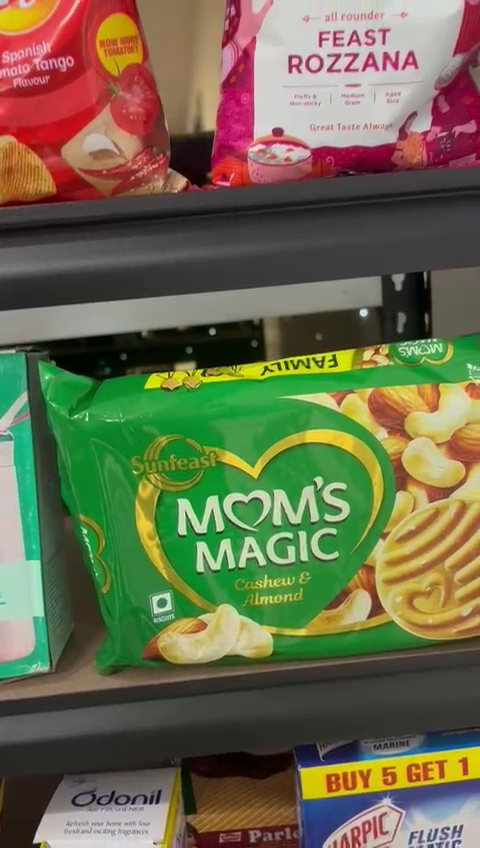Moms magic: (49, 376, 480, 654)
